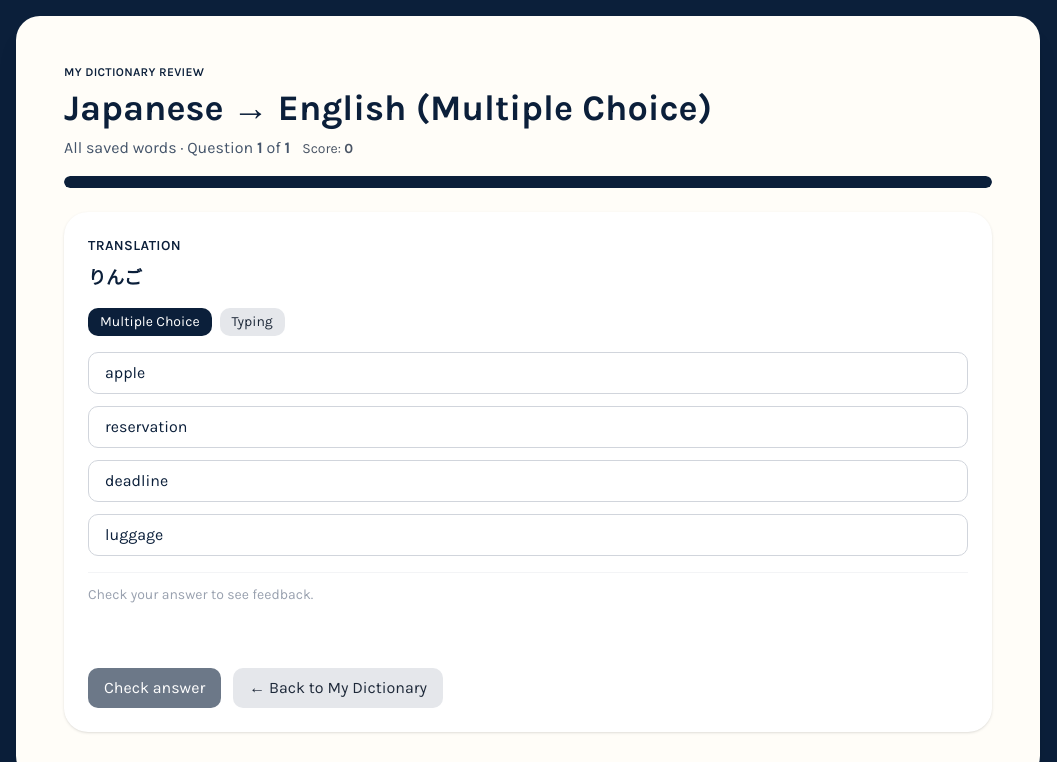
Scenario: My Dictionary review user flow › reports a failed result save and lets the user retry it
Expected: the text "りんご" is shown, [88,267,142,289]
Click the button "apple": [125, 372] box [88,352,968,394]
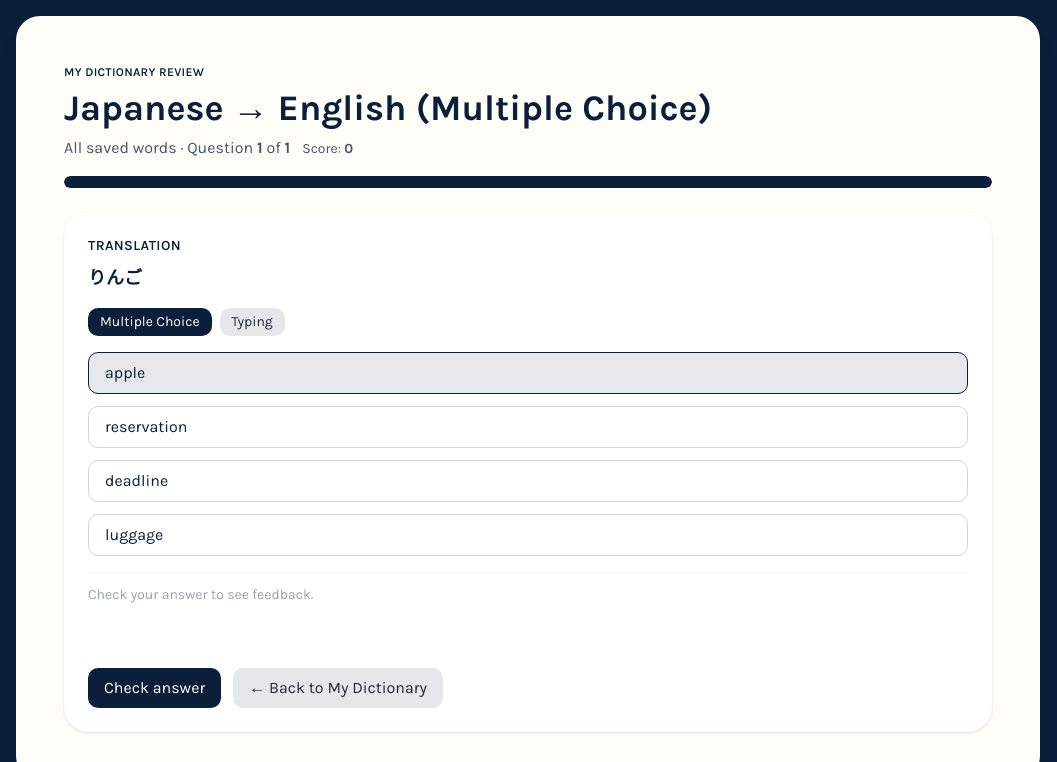
Click the button "Check answer": [155, 688] box [88,668,221,708]
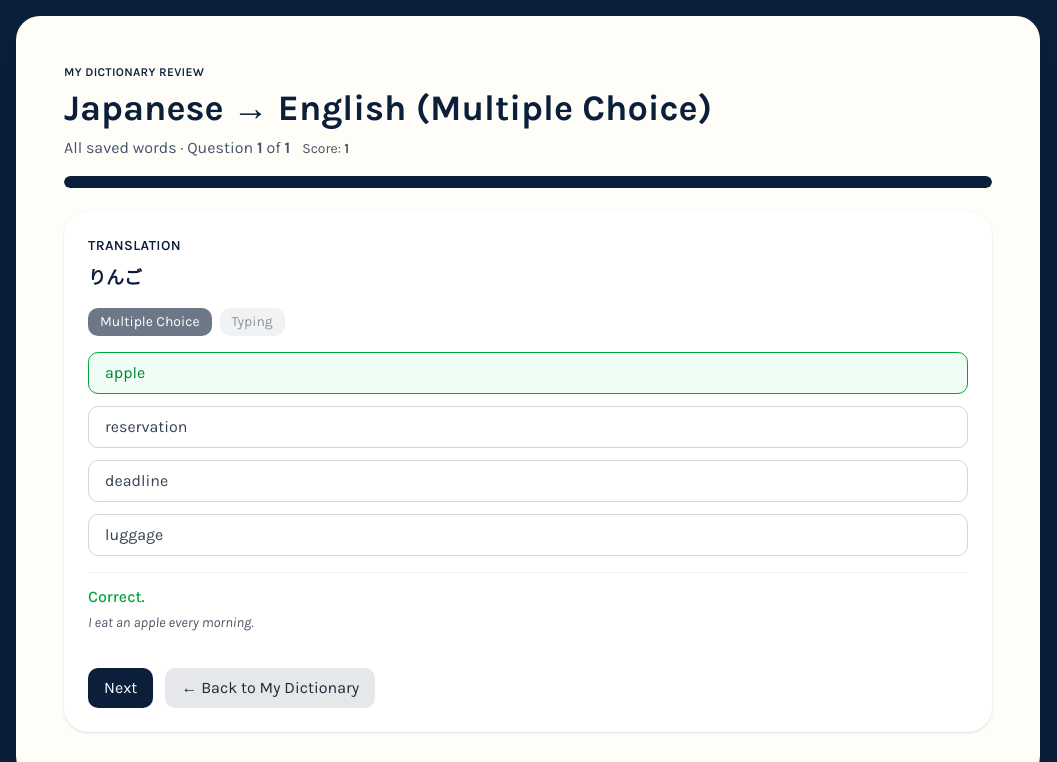
Click the button "Next": [121, 688] box [88,668,153,708]
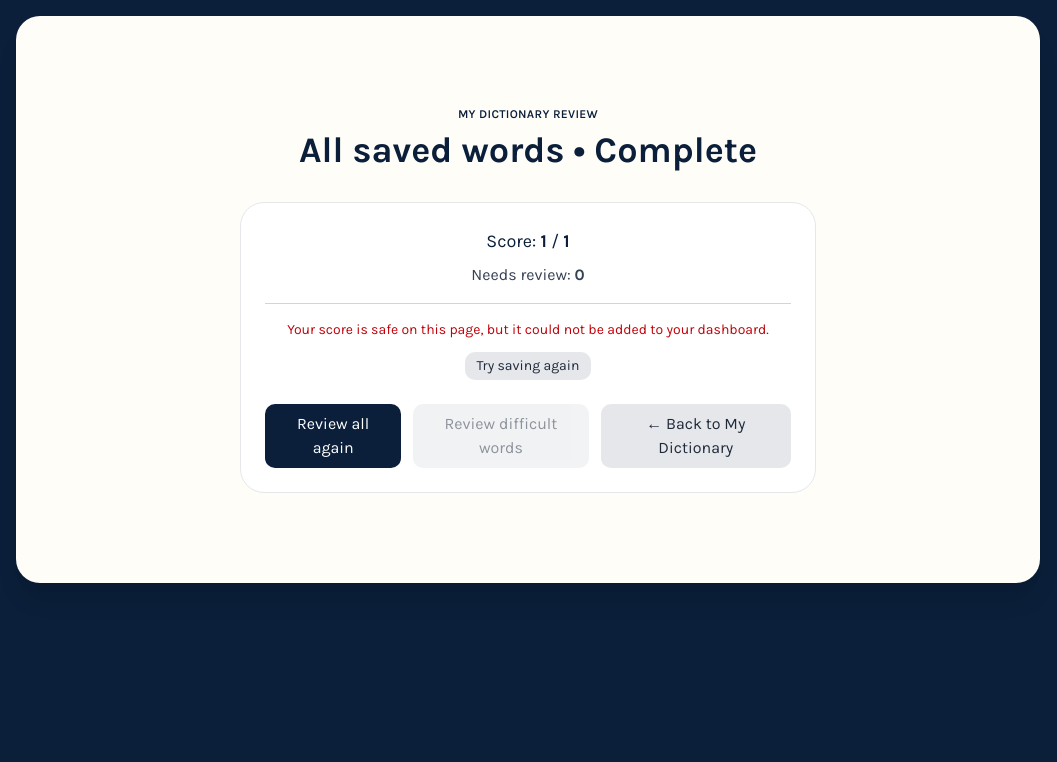
Now the message shows "could not be added to your dashboard", box [287,321,769,338]
Click the button "Try saving again": [528, 366] box [465,352,591,380]
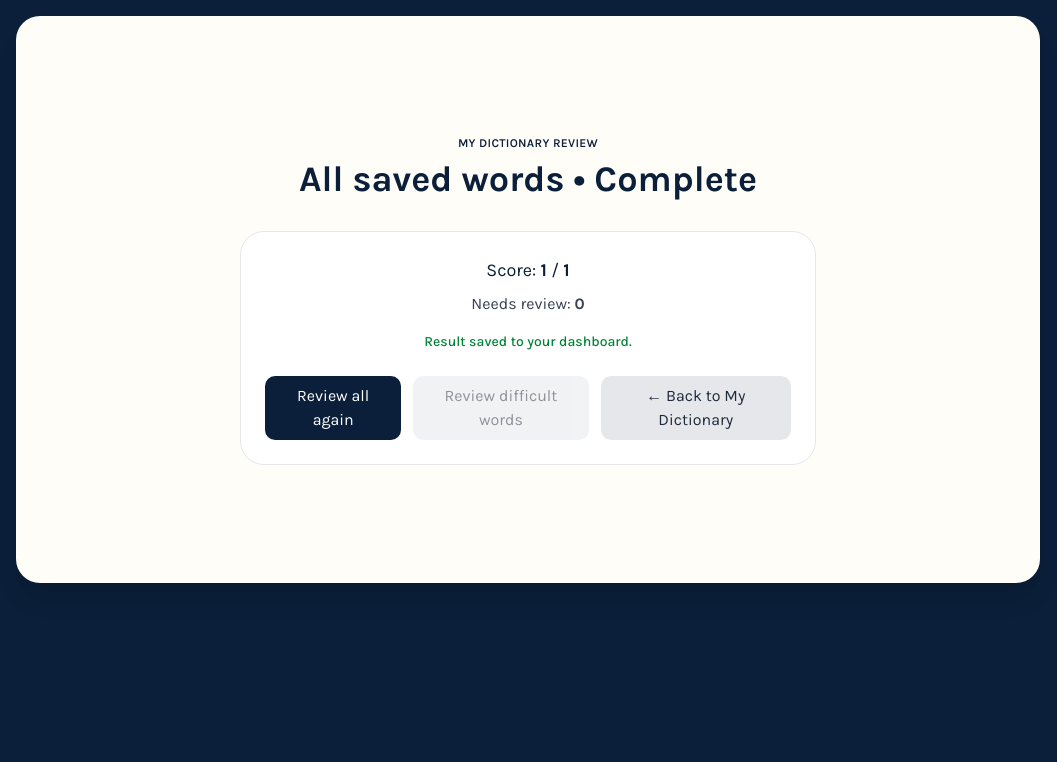
Now the text "Result saved to your dashboard." is shown, box [424,332,632,350]
